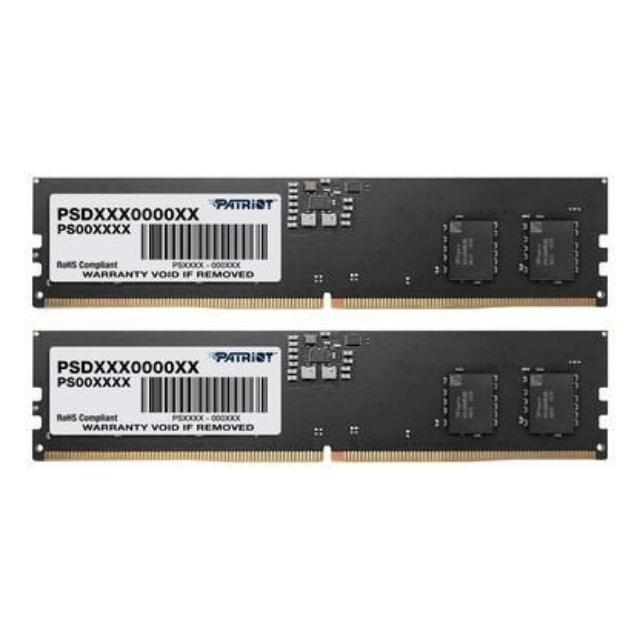RAM: (28, 170, 614, 316), (28, 322, 614, 467)
